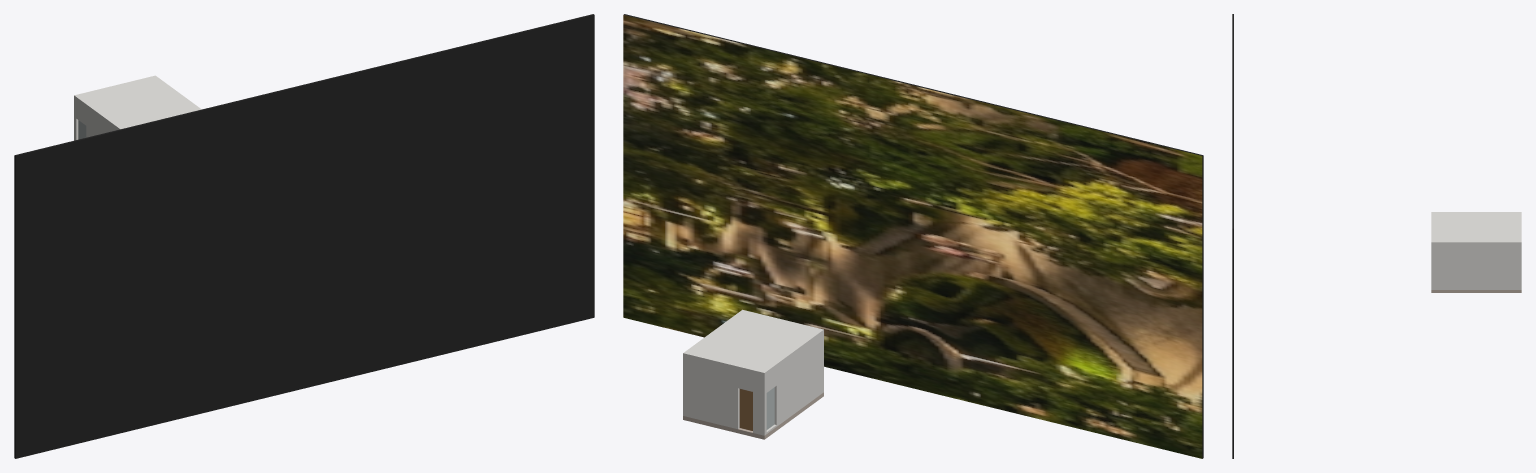
The model's file is home-studio-c2.glb.
3 renders of one model, left to right at view 1: azimuth 30°, elevation 25°; view 2: azimuth 150°, elevation 25°; view 3: azimuth 270°, elevation 25°, orthographic. The views are drawn at different scales.
Visible parts, largest first — view 1: Window_South_Backdrop, Ceiling_Slab, Wall_West; view 2: Window_South_Backdrop, Ceiling_Slab, Wall_North, Wall_West, Floor_Slab; view 3: Wall_East, Ceiling_Slab, Window_South_Backdrop.
Boxes of the visible parts, x1,y1,x2,y2 form: Window_South_Backdrop: (14,14,594,458); Ceiling_Slab: (74,75,201,130); Wall_West: (76,101,115,137); Window_South_Backdrop: (623,14,1203,458); Ceiling_Slab: (683,309,823,376); Wall_North: (683,357,766,435); Wall_West: (766,335,821,433); Floor_Slab: (683,392,823,439); Wall_East: (1434,245,1518,289); Ceiling_Slab: (1431,212,1521,245); Window_South_Backdrop: (1232,14,1233,458).
Bounding box in the file's own units: 30 × 15 × 17.07.
28 materials, 9 textured.
